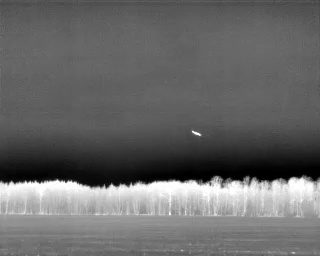DRONE: (187, 124, 207, 142)
